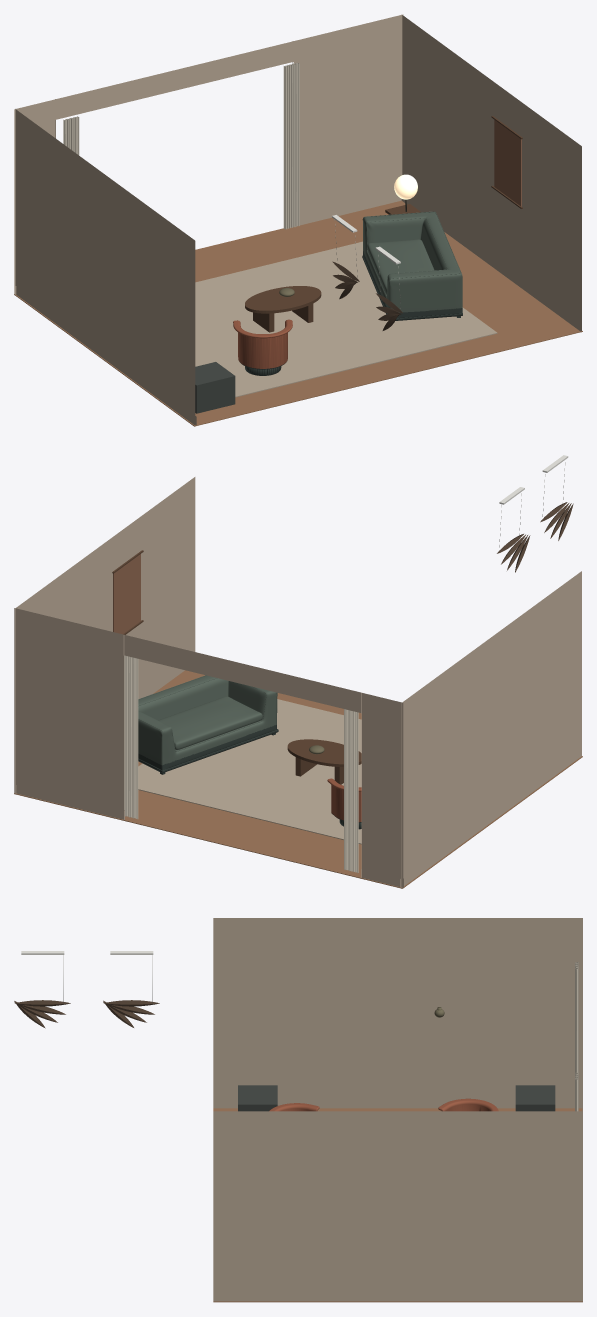
File: great-3.glb
3 renders of one model, top to bottom at view 1: azimuth 30°, elevation 25°; view 2: azimuth 150°, elevation 25°; view 3: azimuth 270°, elevation 25°, orthographic. The views are drawn at different scales.
Visible parts, largest first — view 1: DESIGN | great removable wall finish, DESIGN | Great room primary ground, DESIGN | great floor finish, DESIGN | Great room sofa facing conversation, DESIGN | Great room soft window edge.001, DESIGN | Required Bellustar swivel chair one, DESIGN | Great room linen hanging, DESIGN | Great room low stone display, DESIGN | R7 low conversation table, DESIGN | Great room soft window edge; view 2: DESIGN | great removable wall finish, DESIGN | Great room primary ground, DESIGN | Great room sofa facing conversation, DESIGN | great floor finish, DESIGN | Great room soft window edge, DESIGN | Great room soft window edge.001, DESIGN | Great room linen hanging, DESIGN | R7 low conversation table, DESIGN | Required Bellustar swivel chair two, DESIGN | Required Flou pendant 2, DESIGN | Required Flou pendant 1; view 3: DESIGN | great removable wall finish, DESIGN | great floor finish, DESIGN | Great room low stone display.001, DESIGN | Great room low stone display, DESIGN | Required Flou pendant 2, DESIGN | Required Flou pendant 1, DESIGN | Required Bellustar swivel chair two.
Boxes of the visible parts, x1,y1,x2,y2 form: DESIGN | great removable wall finish: [14, 14, 581, 425]; DESIGN | Great room primary ground: [195, 241, 497, 397]; DESIGN | great floor finish: [14, 200, 582, 426]; DESIGN | Great room sofa facing conversation: [362, 211, 462, 320]; DESIGN | Great room soft window edge.001: [283, 62, 299, 229]; DESIGN | Required Bellustar swivel chair one: [233, 319, 292, 375]; DESIGN | Great room linen hanging: [494, 120, 521, 206]; DESIGN | Great room low stone display: [195, 362, 235, 413]; DESIGN | R7 low conversation table: [245, 286, 321, 313]; DESIGN | Great room soft window edge: [63, 116, 79, 155]; DESIGN | great removable wall finish: [14, 477, 581, 887]; DESIGN | Great room primary ground: [138, 699, 361, 844]; DESIGN | Great room sofa facing conversation: [138, 675, 278, 774]; DESIGN | great floor finish: [14, 670, 582, 888]; DESIGN | Great room soft window edge: [344, 709, 358, 873]; DESIGN | Great room soft window edge.001: [124, 655, 138, 819]; DESIGN | Great room linen hanging: [113, 554, 140, 634]; DESIGN | R7 low conversation table: [287, 739, 361, 766]; DESIGN | Required Bellustar swivel chair two: [327, 778, 361, 829]; DESIGN | Required Flou pendant 2: [497, 534, 530, 572]; DESIGN | Required Flou pendant 1: [540, 502, 573, 540]; DESIGN | great removable wall finish: [213, 918, 582, 1301]; DESIGN | great floor finish: [213, 1108, 582, 1302]; DESIGN | Great room low stone display.001: [515, 1085, 555, 1111]; DESIGN | Great room low stone display: [238, 1085, 277, 1111]; DESIGN | Required Flou pendant 2: [103, 1000, 159, 1027]; DESIGN | Required Flou pendant 1: [14, 1000, 70, 1028]; DESIGN | Required Bellustar swivel chair two: [438, 1098, 498, 1111].
Size of the model in its own units: 6 by 3.04 by 7.42.
